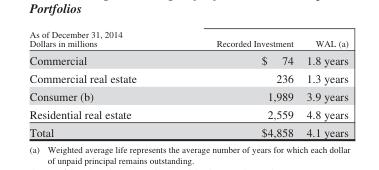table: (28, 28, 347, 138)
table column: (28, 28, 175, 138), (175, 28, 299, 138), (299, 28, 347, 138)
table column header: (28, 28, 347, 50)
table row: (28, 28, 347, 50), (28, 68, 347, 87), (28, 50, 347, 68), (28, 87, 347, 105), (28, 105, 347, 123), (28, 123, 347, 138)
